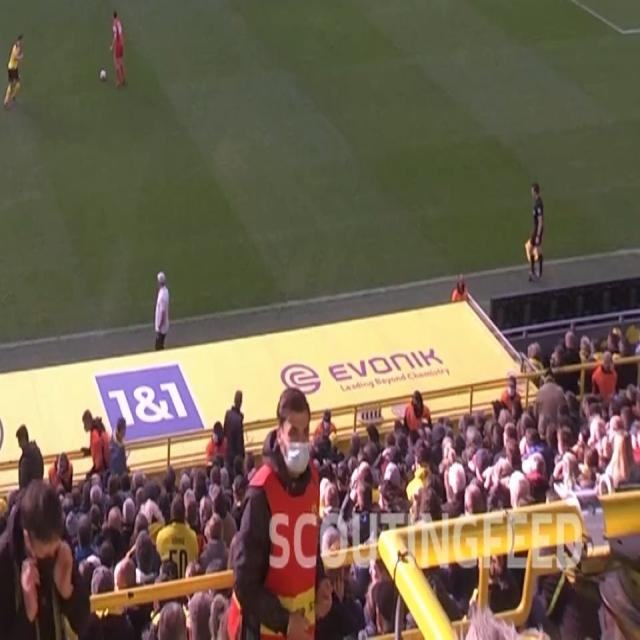ball: (100, 68, 108, 82)
